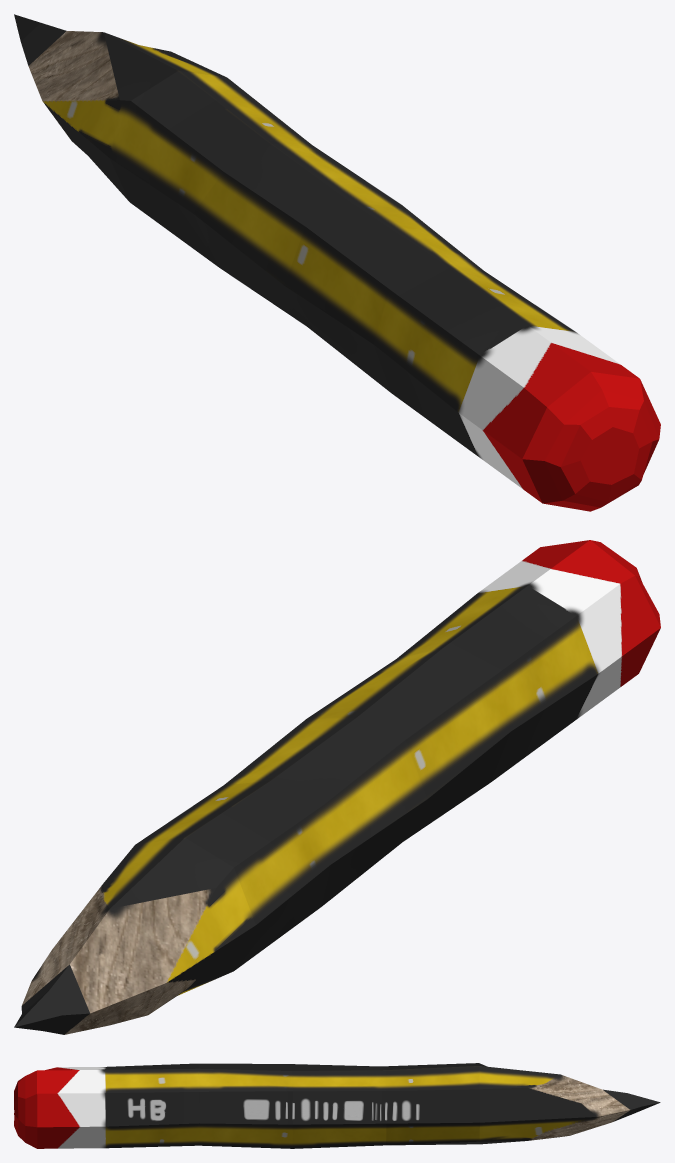
The model's file is LapizVolador.fbx.
3 renders of one model, top to bottom at view 1: azimuth 30°, elevation 25°; view 2: azimuth 150°, elevation 25°; view 3: azimuth 270°, elevation 25°, orthographic. The views are drawn at different scales.
Parts seen in each view (by area): view 1: Cube; view 2: Cube; view 3: Cube.
Boxes of the visible parts, x1,y1,x2,y2 form: Cube: [14, 14, 660, 511]; Cube: [14, 540, 660, 1034]; Cube: [14, 1063, 660, 1148].
Size of the model in its own units: 19.11 by 18.2 by 135.
